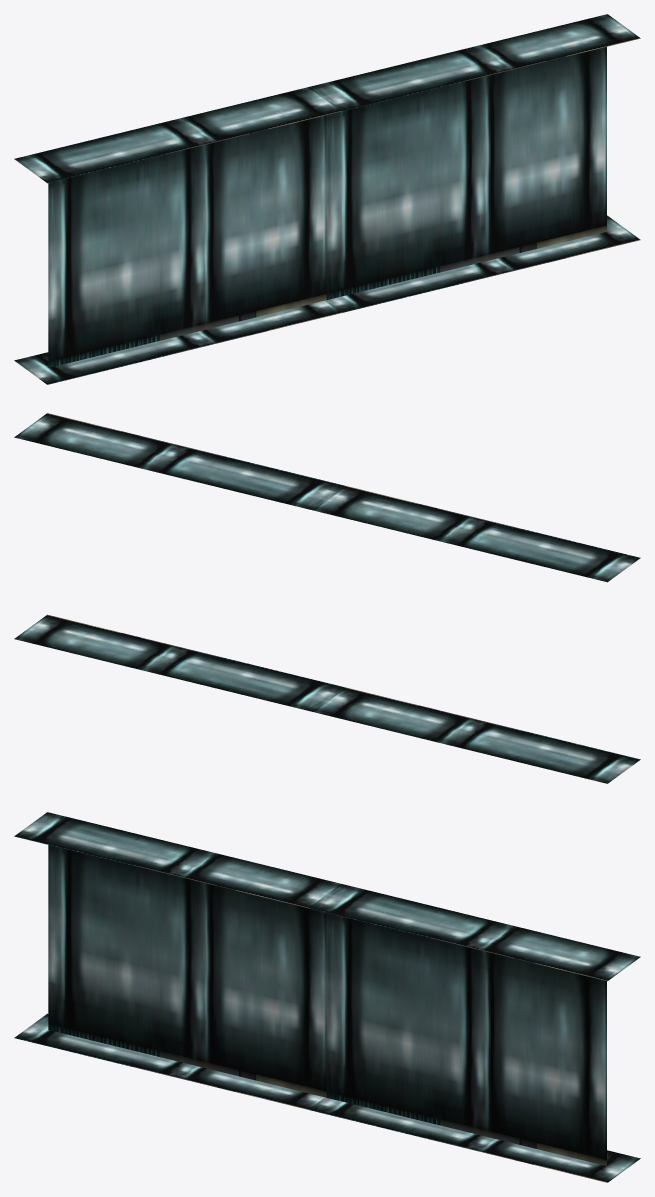
File: Geländer1 [MetallRohre]_101.glb
3 renders of one model, top to bottom at view 1: azimuth 30°, elevation 25°; view 2: azimuth 150°, elevation 25°; view 3: azimuth 330°, elevation 25°, orthographic.
Visible parts, largest first — view 1: pPlaneShape223, pPlaneShape224, pPlaneShape225; view 2: pPlaneShape224, pPlaneShape225; view 3: pPlaneShape223, pPlaneShape224, pPlaneShape225.
Boxes of the visible parts, x1,y1,x2,y2 form: pPlaneShape223: (48,47,606,367); pPlaneShape224: (14,14,640,183); pPlaneShape225: (14,215,640,384); pPlaneShape224: (14,413,640,582); pPlaneShape225: (14,614,640,783); pPlaneShape223: (48,845,606,1165); pPlaneShape224: (14,812,640,981); pPlaneShape225: (14,1013,640,1182).
Size of the model in its own units: 0.25 by 0.0811 by 0.0243.
Materials: 3 (3 with a texture image).
